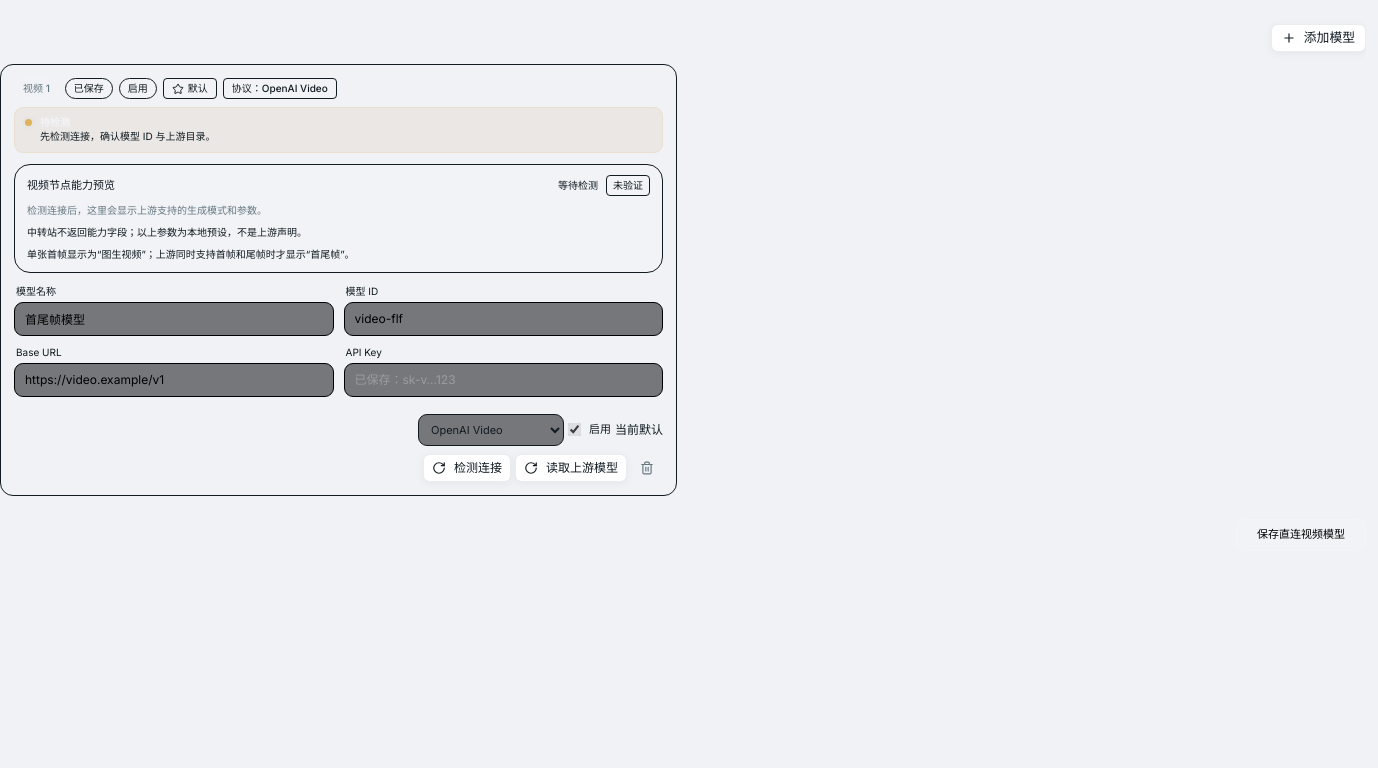
Village direct non-video model panel › previews freshly detected first-last-frame parameters without generating video
Click the button "检测连接". click: click(467, 468)
box: [423,454,511,482]
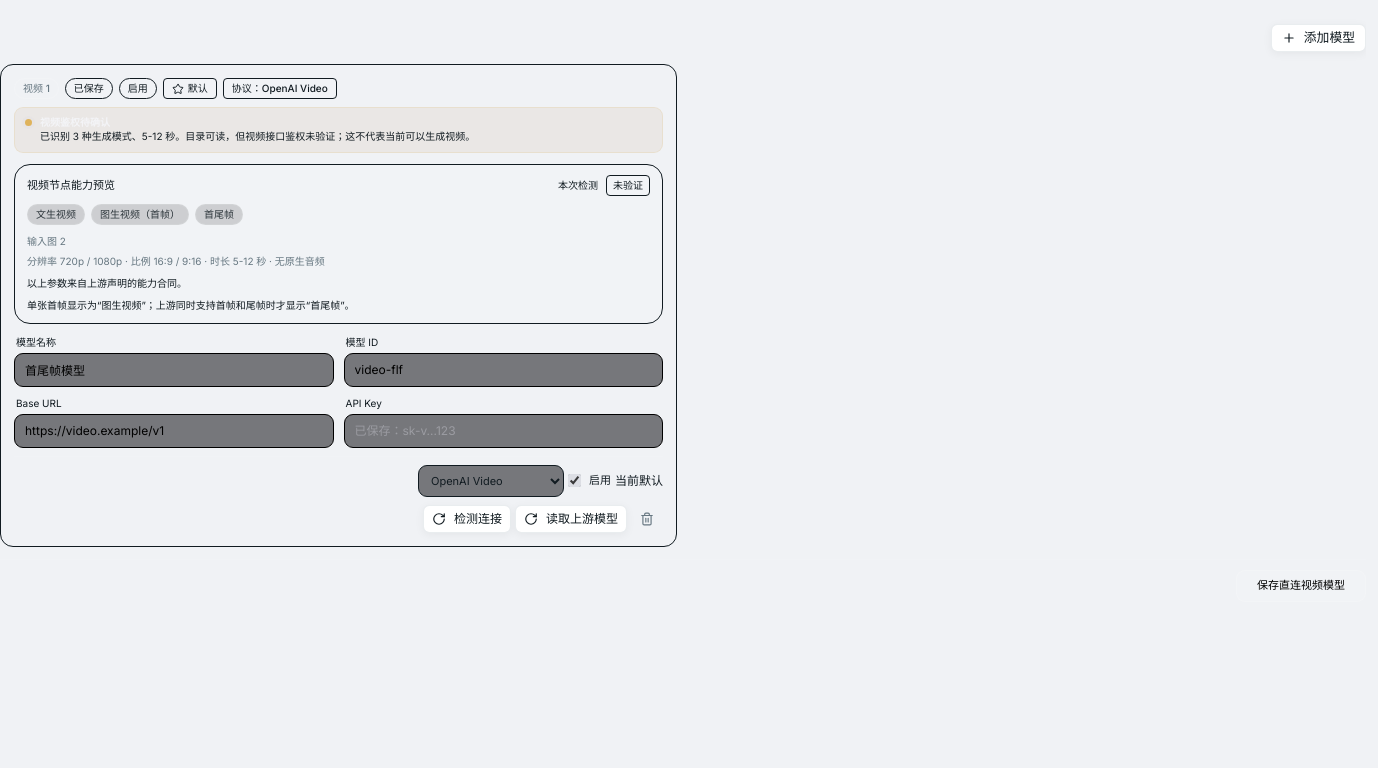
Now the text "本次检测" is shown, box [558,178,598,192]
Now the text "图生视频（首帧）" is shown, box [91,204,189,224]
Now the text "首尾帧" is shown, box [195,204,243,224]
